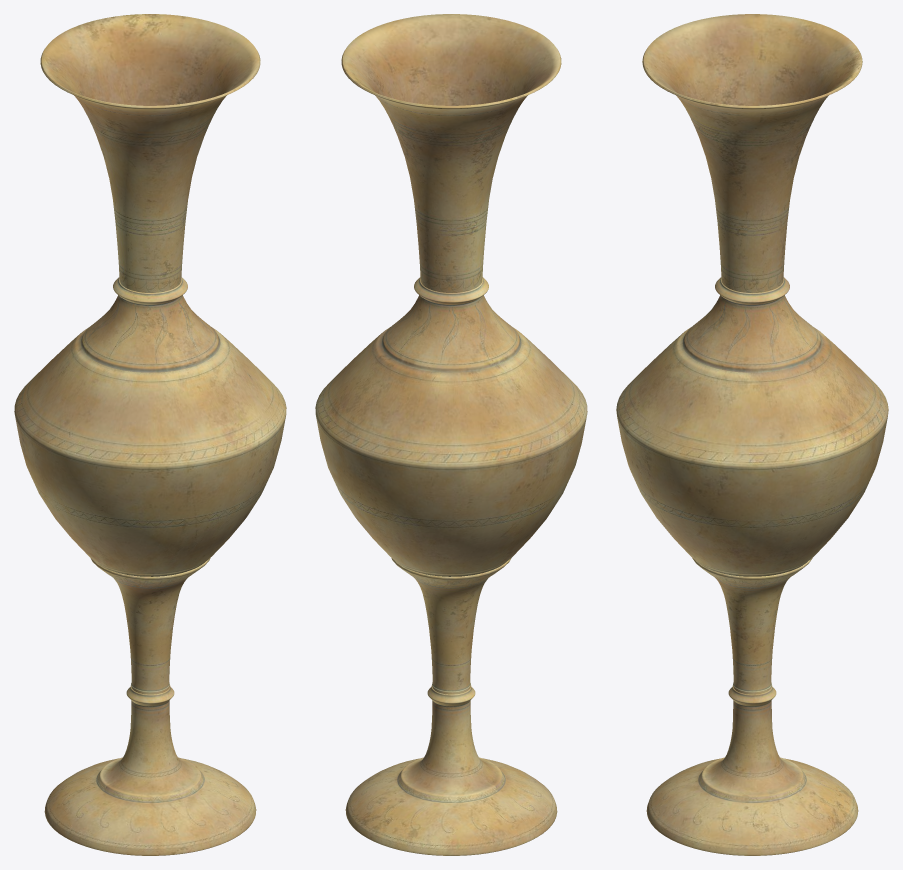
Rendered from brass_vase_01.glb.
3 views of the same model, side by side, from view 1: azimuth 30°, elevation 25°; view 2: azimuth 150°, elevation 25°; view 3: azimuth 270°, elevation 25° (orthographic).
Visible parts, largest first — view 1: brass_vase_01; view 2: brass_vase_01; view 3: brass_vase_01.
Part boxes in pixels (<box>): brass_vase_01: <box>14,14,286,855</box>; brass_vase_01: <box>315,14,587,855</box>; brass_vase_01: <box>616,14,888,855</box>.
Size of the model in its own units: 0.2273 by 0.6925 by 0.2273.
Materials: 1 (1 with a texture image).
